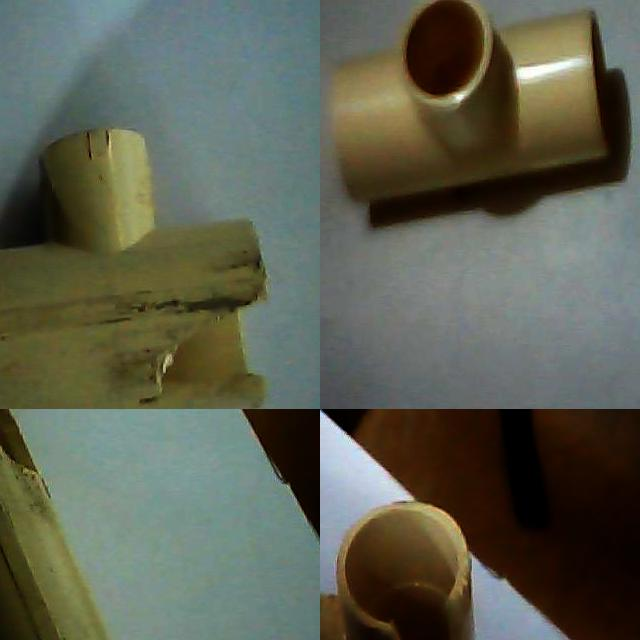Defective: (152, 294, 270, 404), (391, 604, 469, 640), (0, 409, 40, 474)
T Joint: (0, 129, 268, 409), (331, 0, 626, 201), (320, 502, 477, 640)
